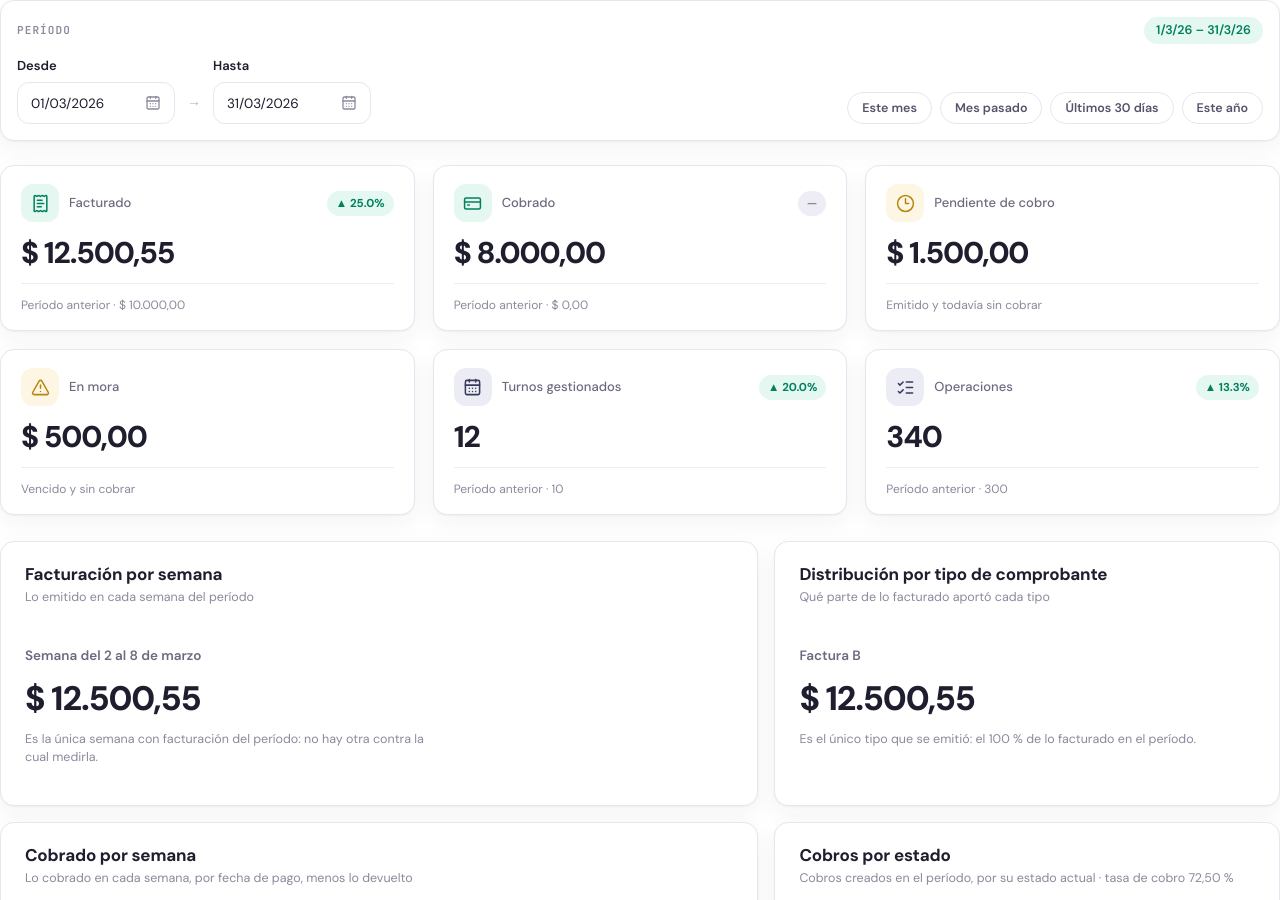
Scenario: PAN-REP-01 · las visualizaciones de cobranza › cambiar el período actualiza los dos gráficos de cobranza
Click the button named "Desde": coordinates (96, 103) [17,82,175,124]
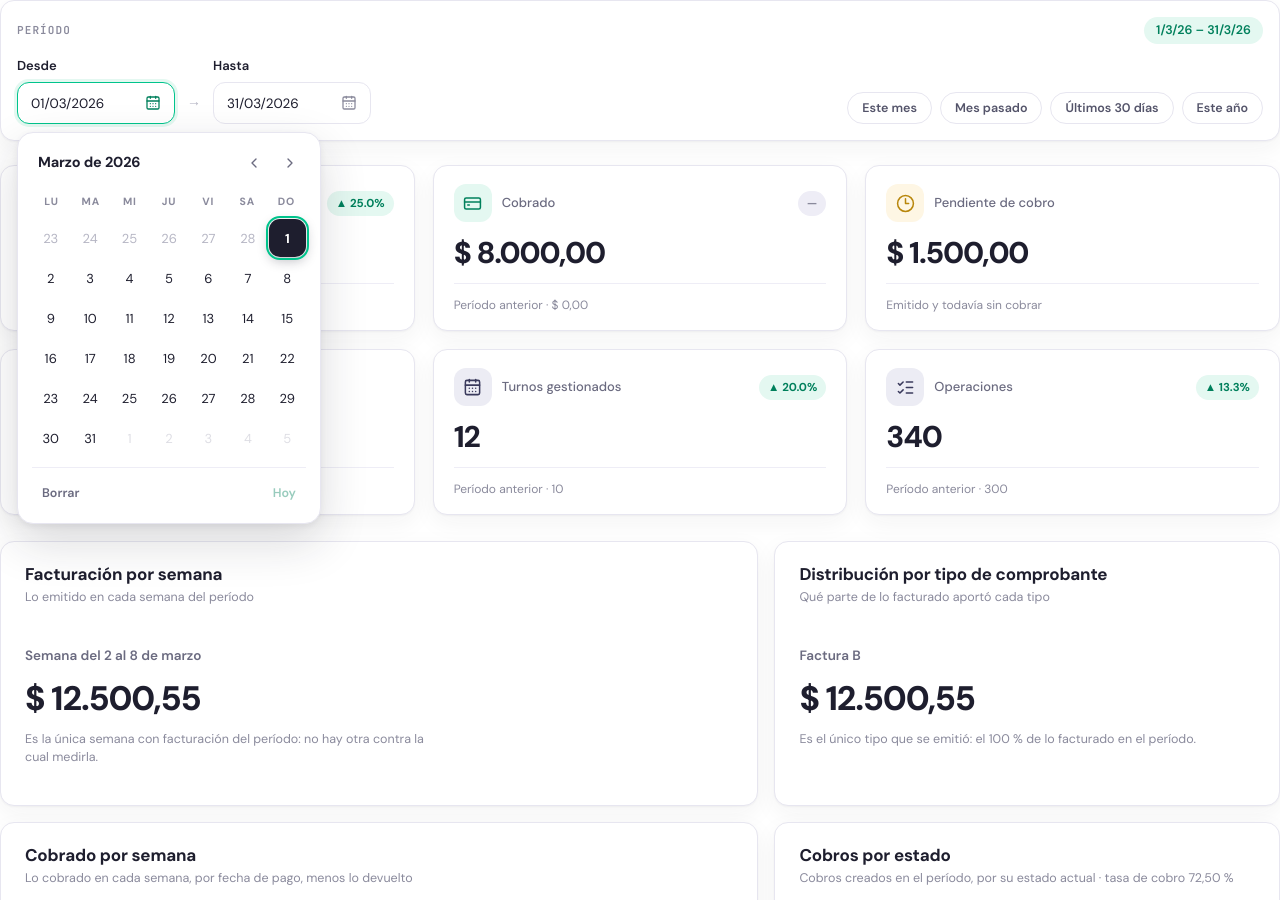
Click the button named "Mes anterior": coordinates (254, 163) [238,147,270,179]
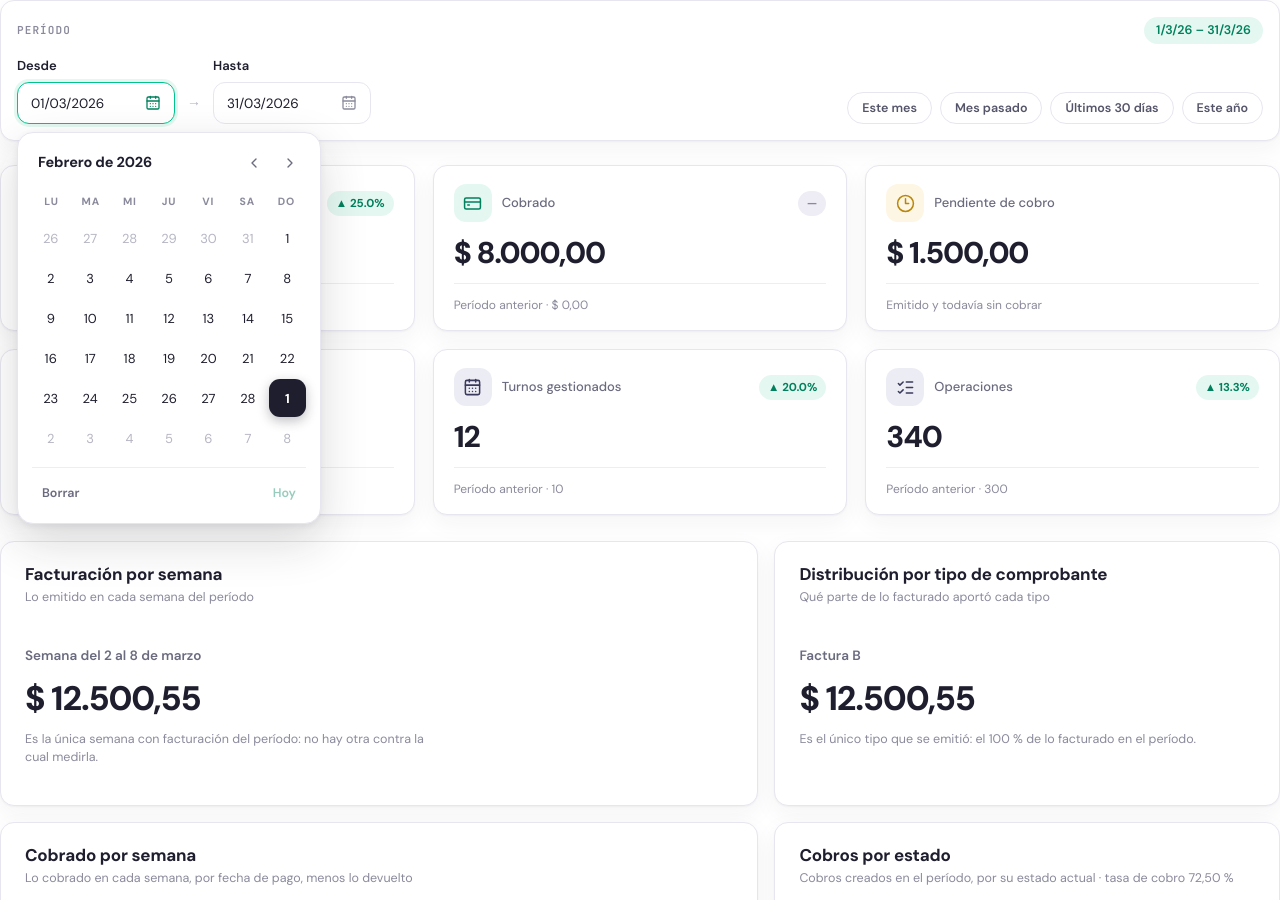
Click the button named "1 de febrero de 2026": coordinates (287, 238) [269,219,306,257]
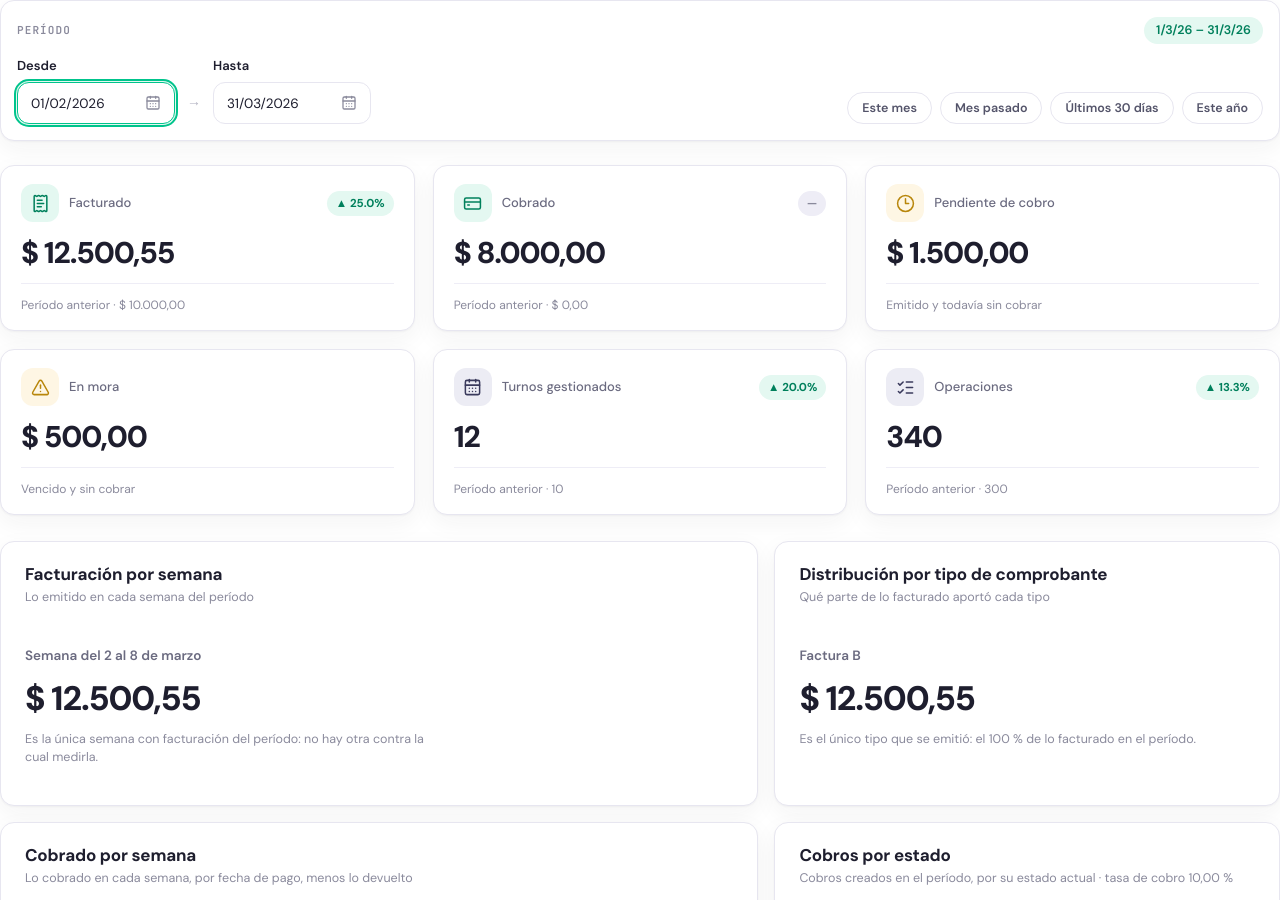
Now the text "tasa de cobro 10,00 %" is shown, box [799,868,1233,887]
